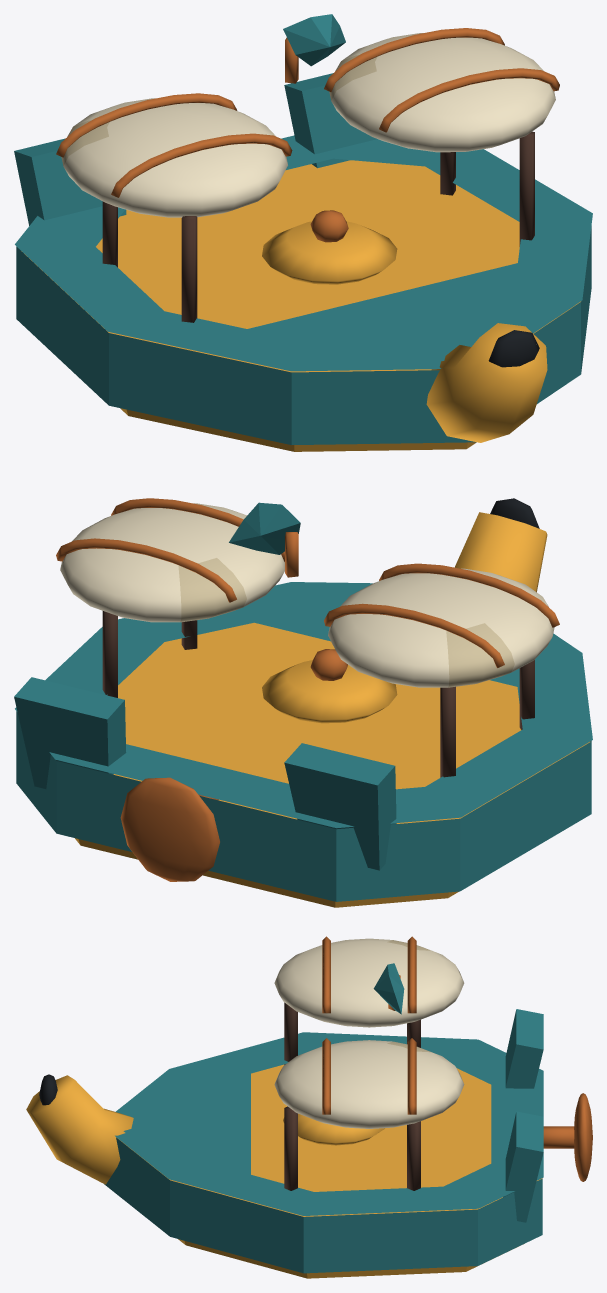
Rendered from copperskiff.glb.
The picture shows the model from 3 angles, top to bottom: view 1: azimuth 30°, elevation 25°; view 2: azimuth 150°, elevation 25°; view 3: azimuth 270°, elevation 25°; orthographic projection. The views are drawn at different scales.
Visible parts, largest first — view 1: ME_20261020_copperskiff_copper_boat_belly.002, ME_20261020_copperskiff_team_coaming_wall.002, ME_20261020_copperskiff_team_top_coaming.002, ME_20261020_copperskiff_team_foredeck.002, ME_20261020_copperskiff_canvas_lens_1, ME_20261020_copperskiff_canvas_lens_0.002, ME_20261020_copperskiff_curved_bow_spout.002, ME_20261020_copperskiff_kettle_lid.002, ME_20261020_copperskiff_stern_board_-1.002, ME_20261020_copperskiff_stern_board_1.002, ME_20261020_copperskiff_team_leaf_pennant.002, ME_20261020_copperskiff_copper_canvas_binding_1_0 (+9 smaller); view 2: ME_20261020_copperskiff_copper_boat_belly.002, ME_20261020_copperskiff_team_coaming_wall.002, ME_20261020_copperskiff_team_top_coaming.002, ME_20261020_copperskiff_canvas_lens_0.002, ME_20261020_copperskiff_canvas_lens_1, ME_20261020_copperskiff_stern_board_-1.002, ME_20261020_copperskiff_stern_board_1.002, ME_20261020_copperskiff_pusher_disc.002, ME_20261020_copperskiff_kettle_lid.002, ME_20261020_copperskiff_team_foredeck.002, ME_20261020_copperskiff_curved_bow_spout.002, ME_20261020_copperskiff_team_leaf_pennant.002 (+10 smaller); view 3: ME_20261020_copperskiff_team_coaming_wall.002, ME_20261020_copperskiff_copper_boat_belly.002, ME_20261020_copperskiff_team_top_coaming.002, ME_20261020_copperskiff_canvas_lens_1, ME_20261020_copperskiff_team_foredeck.002, ME_20261020_copperskiff_canvas_lens_0.002, ME_20261020_copperskiff_curved_bow_spout.002, ME_20261020_copperskiff_stern_board_1.002, ME_20261020_copperskiff_stern_board_-1.002, ME_20261020_copperskiff_kettle_lid.002, ME_20261020_copperskiff_pusher_disc.002, ME_20261020_copperskiff_canvas_support_1_0.002 (+8 smaller).
Boxes of the visible parts, x1,y1,x2,y2 form: ME_20261020_copperskiff_copper_boat_belly.002: [21, 160, 580, 451]; ME_20261020_copperskiff_team_coaming_wall.002: [16, 226, 591, 444]; ME_20261020_copperskiff_team_top_coaming.002: [15, 135, 592, 371]; ME_20261020_copperskiff_team_foredeck.002: [225, 257, 570, 364]; ME_20261020_copperskiff_canvas_lens_1: [329, 33, 555, 152]; ME_20261020_copperskiff_canvas_lens_0.002: [61, 98, 287, 217]; ME_20261020_copperskiff_curved_bow_spout.002: [426, 323, 547, 442]; ME_20261020_copperskiff_kettle_lid.002: [262, 221, 397, 284]; ME_20261020_copperskiff_stern_board_-1.002: [14, 138, 126, 225]; ME_20261020_copperskiff_stern_board_1.002: [284, 73, 376, 168]; ME_20261020_copperskiff_team_leaf_pennant.002: [283, 14, 345, 66]; ME_20261020_copperskiff_copper_canvas_binding_1_0: [379, 68, 559, 132]; ME_20261020_copperskiff_copper_boat_belly.002: [75, 622, 589, 907]; ME_20261020_copperskiff_team_coaming_wall.002: [16, 711, 591, 901]; ME_20261020_copperskiff_team_top_coaming.002: [15, 582, 592, 828]; ME_20261020_copperskiff_canvas_lens_0.002: [328, 568, 554, 687]; ME_20261020_copperskiff_canvas_lens_1: [60, 503, 284, 622]; ME_20261020_copperskiff_stern_board_-1.002: [284, 743, 396, 870]; ME_20261020_copperskiff_stern_board_1.002: [14, 677, 126, 788]; ME_20261020_copperskiff_pusher_disc.002: [120, 777, 219, 881]; ME_20261020_copperskiff_kettle_lid.002: [262, 660, 397, 723]; ME_20261020_copperskiff_team_foredeck.002: [225, 586, 570, 693]; ME_20261020_copperskiff_curved_bow_spout.002: [454, 512, 547, 592]; ME_20261020_copperskiff_team_leaf_pennant.002: [229, 502, 300, 554]; ME_20261020_copperskiff_team_coaming_wall.002: [104, 1137, 542, 1273]; ME_20261020_copperskiff_copper_boat_belly.002: [126, 1064, 542, 1278]; ME_20261020_copperskiff_team_top_coaming.002: [115, 1032, 543, 1215]; ME_20261020_copperskiff_canvas_lens_1: [274, 1040, 464, 1128]; ME_20261020_copperskiff_team_foredeck.002: [123, 1062, 250, 1183]; ME_20261020_copperskiff_canvas_lens_0.002: [274, 938, 464, 1027]; ME_20261020_copperskiff_curved_bow_spout.002: [26, 1075, 133, 1184]; ME_20261020_copperskiff_stern_board_1.002: [503, 1111, 543, 1222]; ME_20261020_copperskiff_stern_board_-1.002: [505, 1009, 543, 1088]; ME_20261020_copperskiff_kettle_lid.002: [283, 1113, 384, 1145]; ME_20261020_copperskiff_pusher_disc.002: [574, 1093, 592, 1181]; ME_20261020_copperskiff_canvas_support_1_0.002: [284, 1106, 297, 1190].
Bounding box in the file's own units: 1.56 × 1.02 × 2.07.
